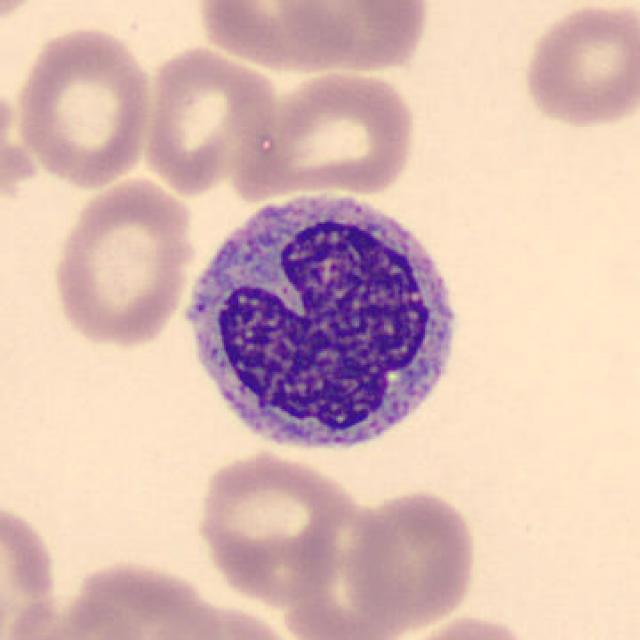Monocyte: (169, 180, 473, 467)
RBC: (190, 448, 363, 606), (48, 172, 199, 352), (229, 65, 423, 203), (11, 23, 158, 190), (138, 42, 284, 198), (341, 487, 480, 633), (39, 555, 228, 640), (518, 2, 638, 132), (192, 0, 368, 72), (276, 0, 434, 76), (0, 492, 62, 640), (2, 585, 151, 640), (135, 597, 304, 640), (390, 612, 540, 640), (0, 74, 16, 189), (0, 0, 48, 37)
